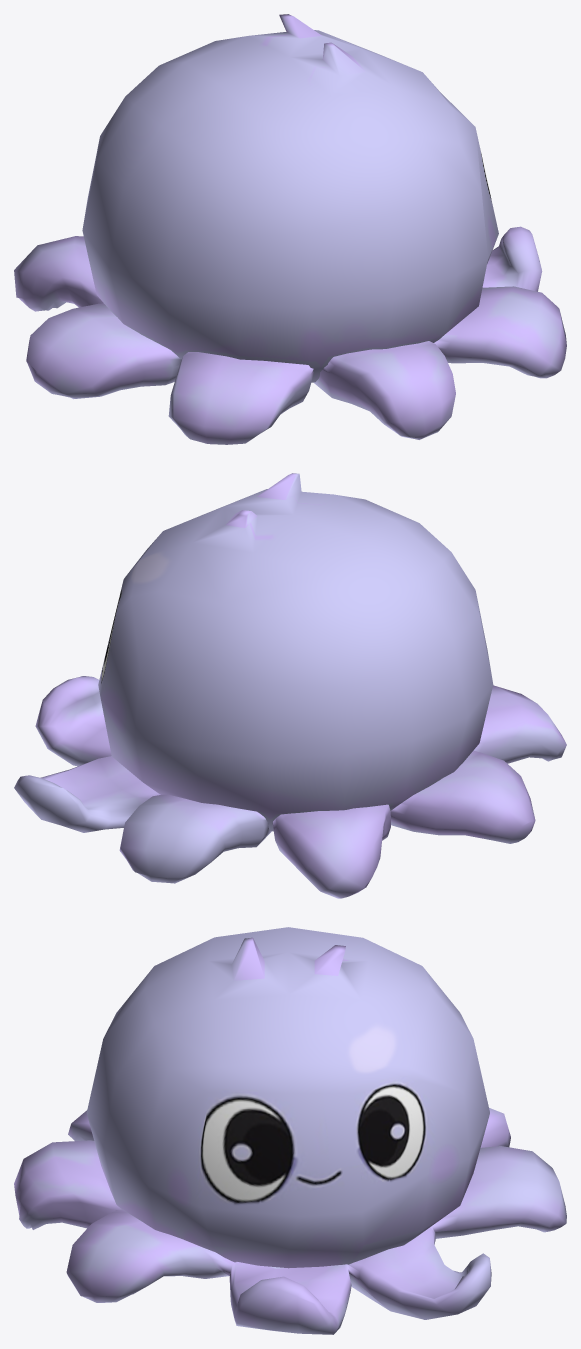
Rendered from W_jenntacles_plush.fbx.
The picture shows the model from 3 angles, top to bottom: view 1: azimuth 30°, elevation 25°; view 2: azimuth 150°, elevation 25°; view 3: azimuth 270°, elevation 25°; orthographic projection. The views are drawn at different scales.
Visible parts, largest first — view 1: Head_low; view 2: Head_low; view 3: Head_low.
Boxes of the visible parts, x1=… form: Head_low: x1=14, y1=14, x2=566, y2=444; Head_low: x1=14, y1=473, x2=566, y2=898; Head_low: x1=14, y1=927, x2=566, y2=1334.
Size of the model in its own units: 0.2769 by 0.1702 by 0.2738.
